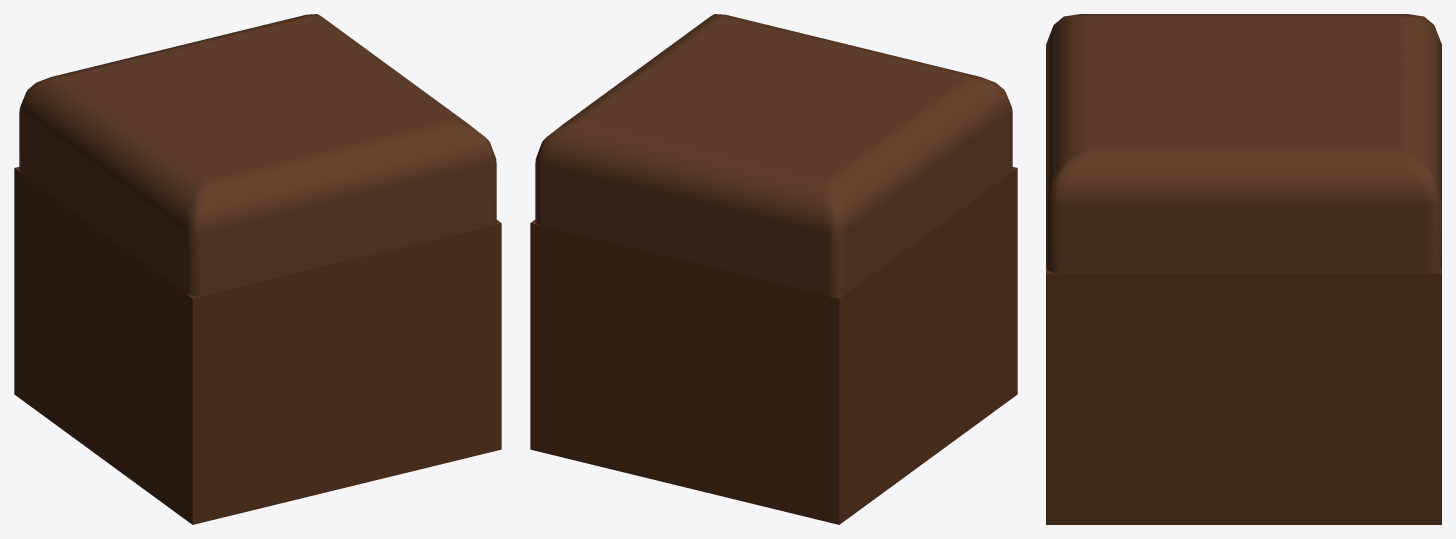
File: Terrain__soil.glb
3 views of the same model, side by side, from view 1: azimuth 30°, elevation 25°; view 2: azimuth 150°, elevation 25°; view 3: azimuth 270°, elevation 25° (orthographic). The views are drawn at different scales.
Parts seen in each view (by area): view 1: soil_mesh; view 2: soil_mesh; view 3: soil_mesh.
Boxes of the visible parts, bbox=[...] form: soil_mesh: bbox=[14, 14, 501, 524]; soil_mesh: bbox=[530, 14, 1017, 524]; soil_mesh: bbox=[1046, 14, 1441, 524].
Bounding box in the file's own units: 0.5 × 0.5 × 0.5.
